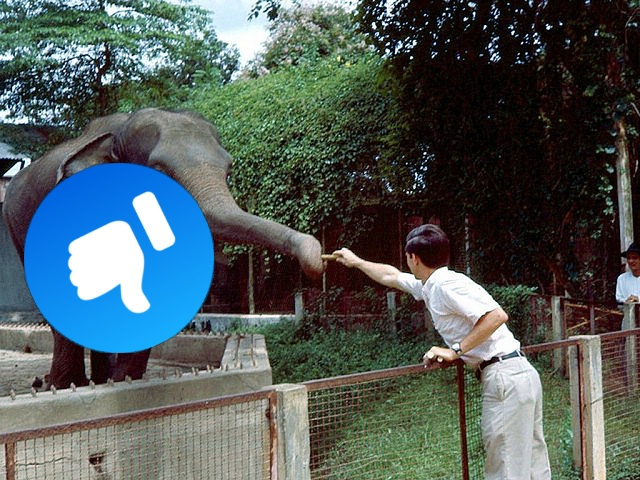like: (24, 163, 214, 353)
